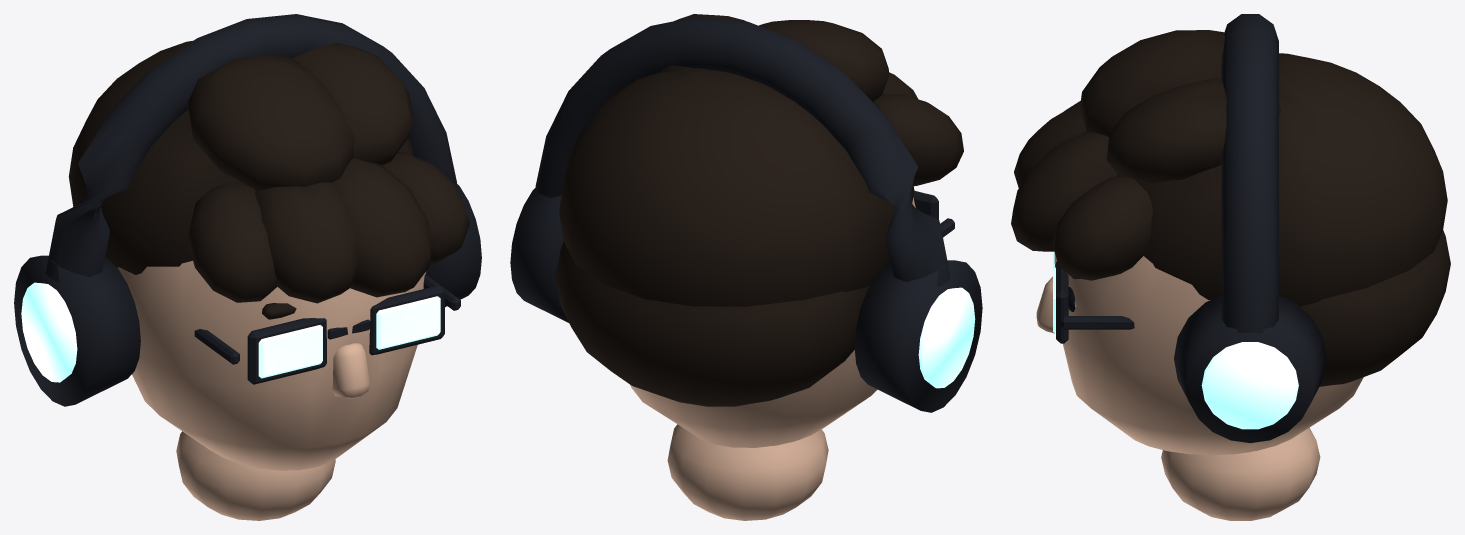
Rendered from coder_head_0.glb.
The picture shows the model from 3 angles, left to right: view 1: azimuth 30°, elevation 25°; view 2: azimuth 150°, elevation 25°; view 3: azimuth 270°, elevation 25°; orthographic projection. The views are drawn at different scales.
Visible parts, largest first — view 1: CoderPart; view 2: CoderPart; view 3: CoderPart.
Part boxes in pixels (bbox=[...]): CoderPart: bbox=[14, 14, 481, 520]; CoderPart: bbox=[510, 14, 982, 520]; CoderPart: bbox=[1011, 14, 1450, 520].
Bounding box in the file's own units: 0.292 × 0.3321 × 0.2763.
